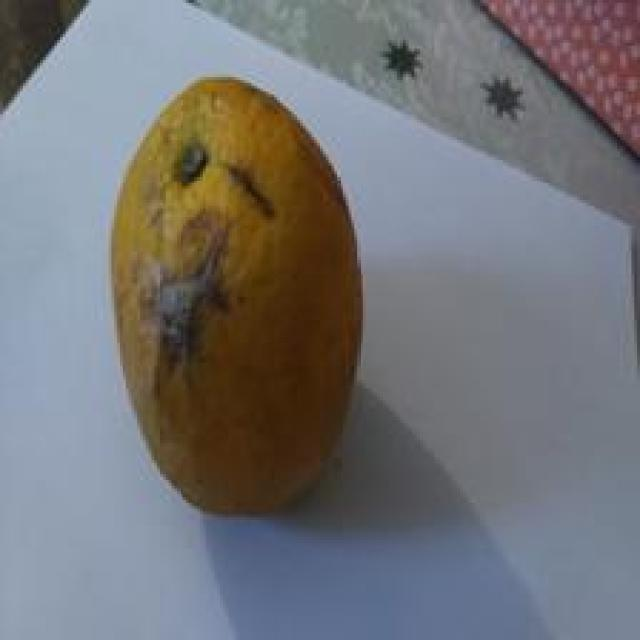overripe: (107, 71, 370, 522)
